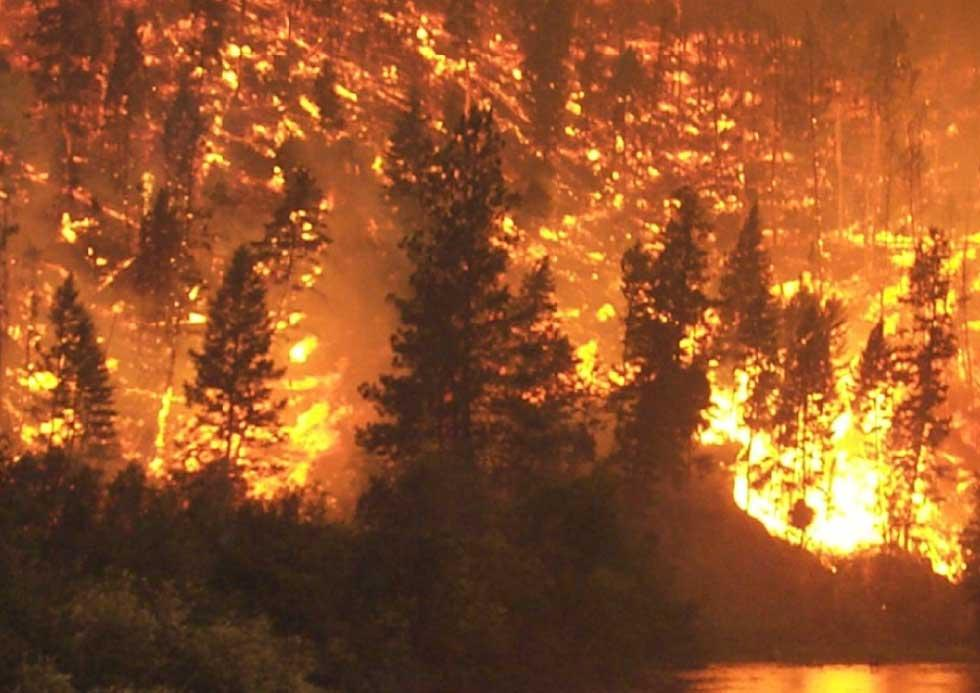fire: (2, 2, 980, 635)
